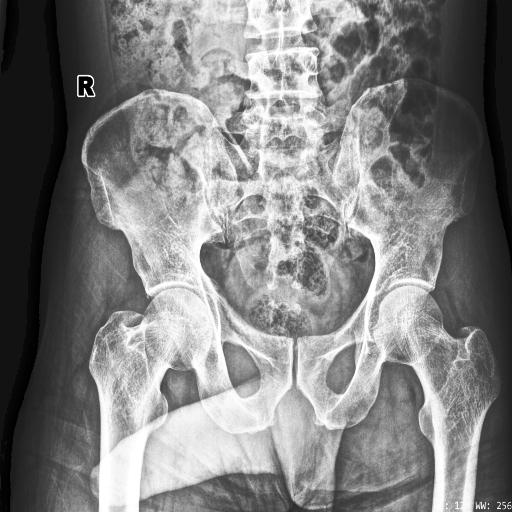normal: (374, 285, 501, 512), (89, 288, 213, 512)
